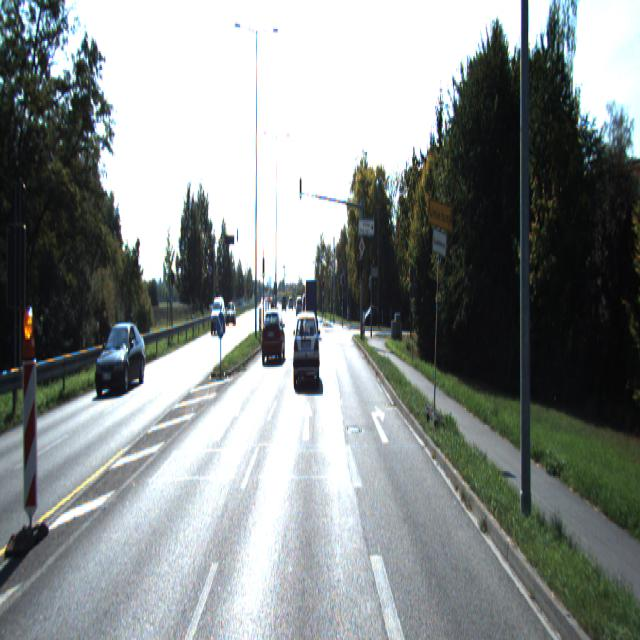Car: (95, 324, 146, 398), (294, 312, 320, 383), (261, 311, 286, 367), (304, 276, 318, 334), (210, 298, 226, 334)
